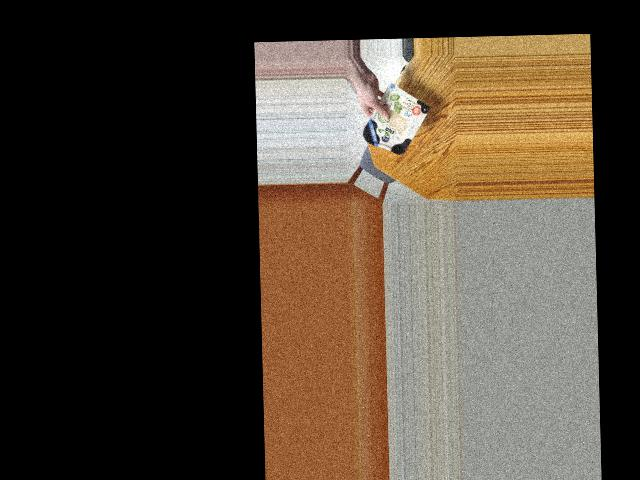cheese: (361, 92, 425, 160)
